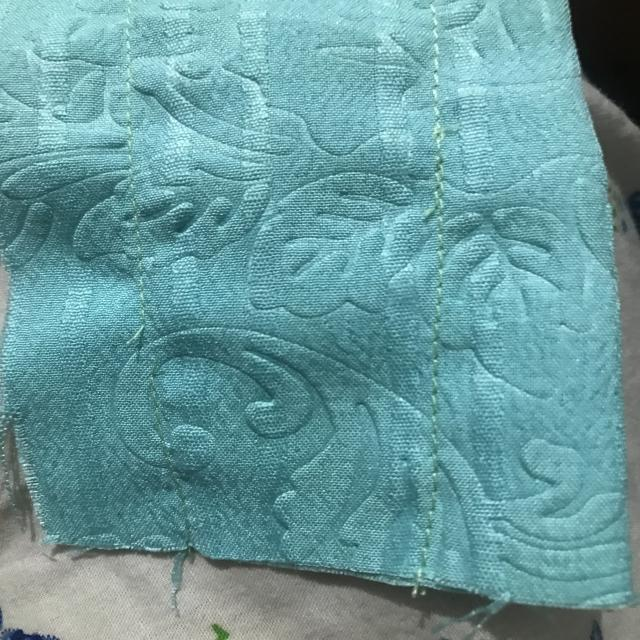broken: (108, 312, 189, 393)
good: (422, 274, 453, 380)
